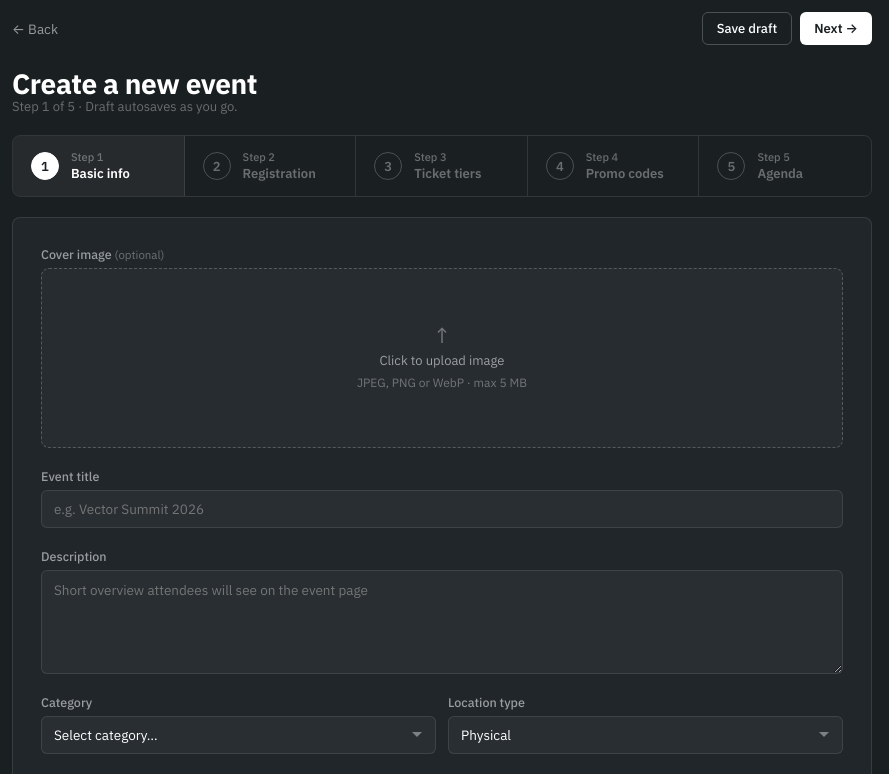
Test case: CreateEvent › shows missing start date error before category error when both are absent
This screenshot has width=889, height=774.
Type "My Event" into the field with placeholder "e.g. Vector Summit 2026".
click(442, 509); type("My Event")  # box x1=41 y1=490 x2=843 y2=528
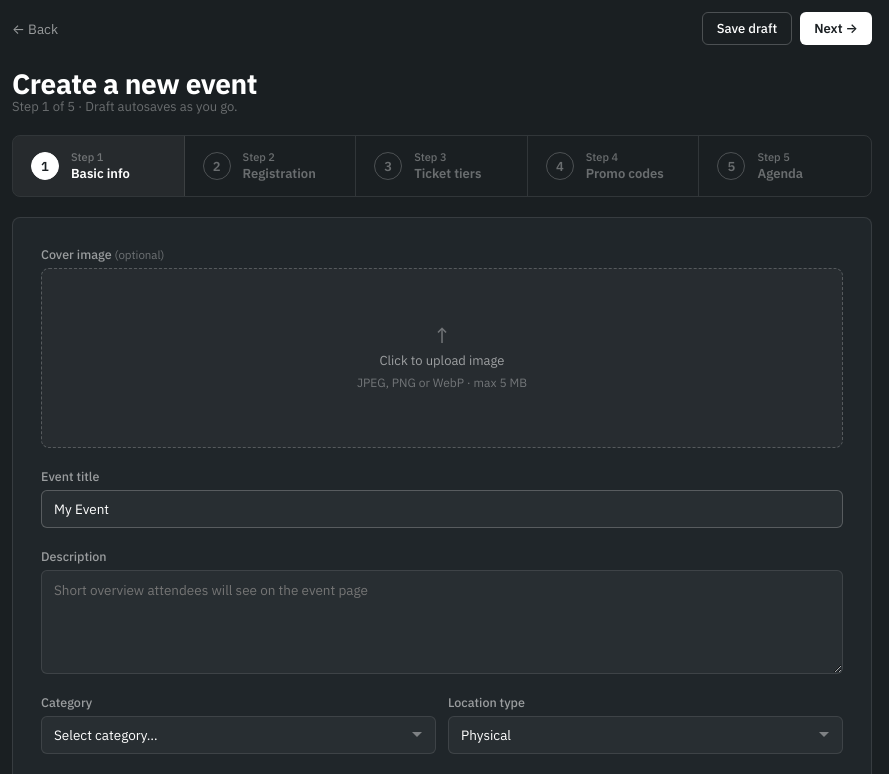
Type "A great event." into the text box with placeholder "Short overview attendees will see on the event page".
click(442, 622); type("A great event.")  # box x1=41 y1=570 x2=843 y2=674
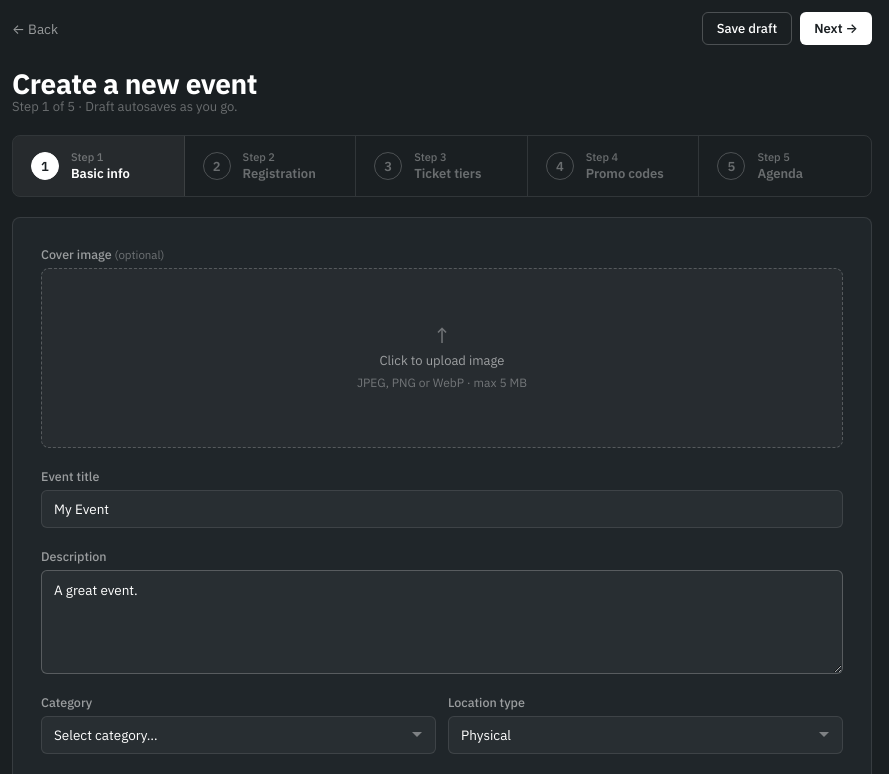
Click the button "Save draft".
click(747, 28)  # box x1=702 y1=12 x2=792 y2=45
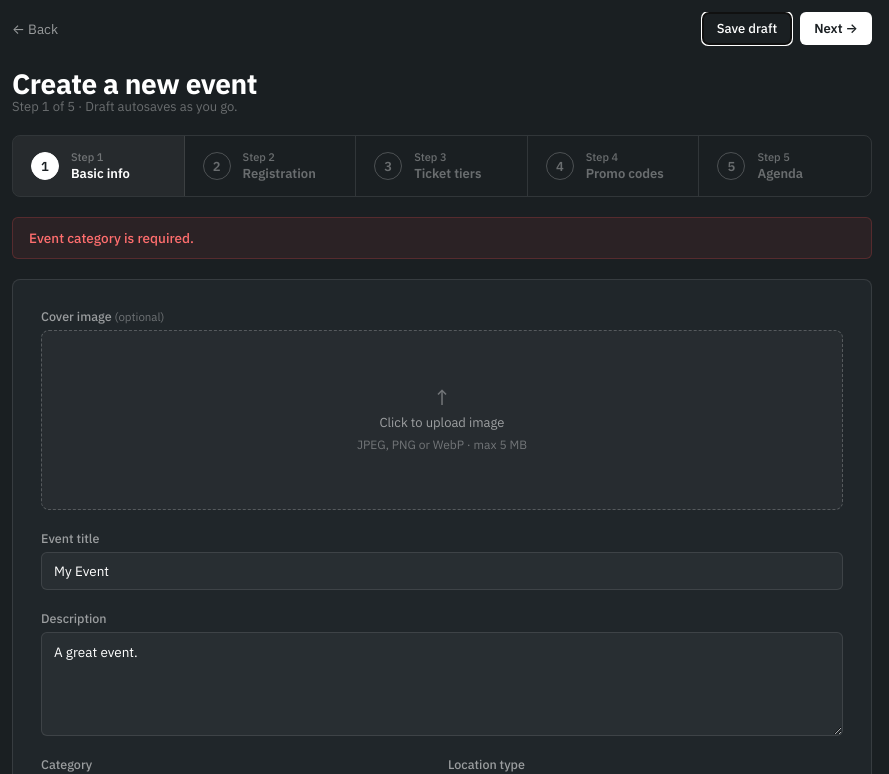
Expected: the text "Event category is required." is shown, x1=12 y1=217 x2=872 y2=259
